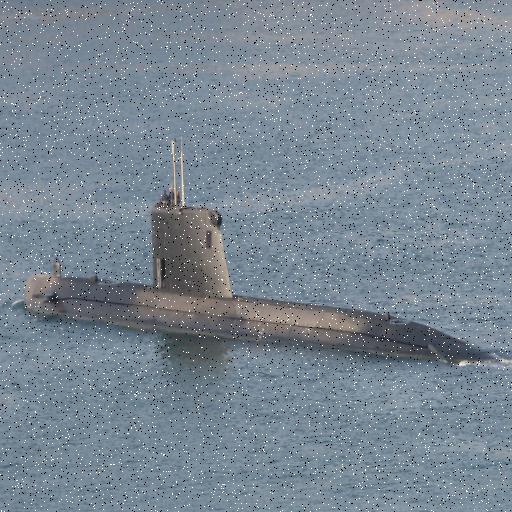submarine: (26, 209, 512, 367)
